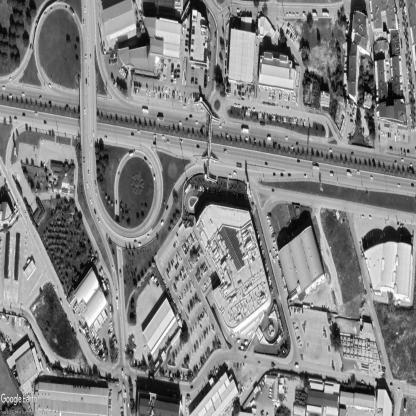solar-pv-panel: (219, 226, 242, 272), (223, 226, 245, 267)
